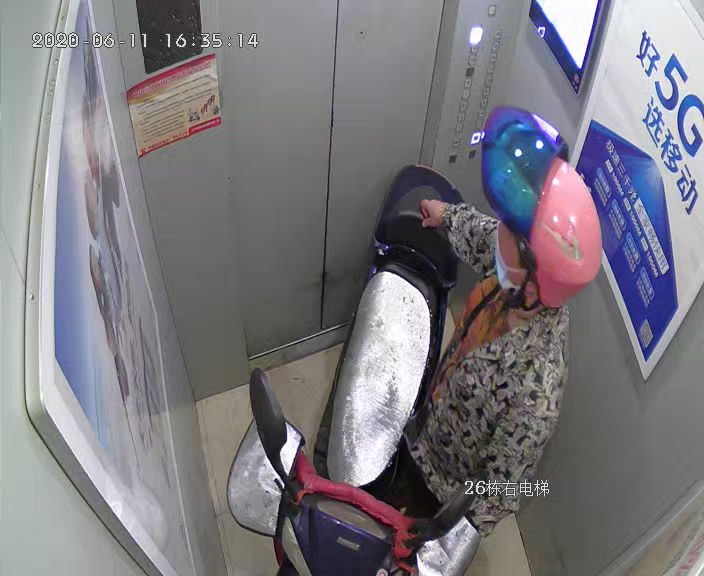Electric-bicycle: (294, 172, 457, 576)
